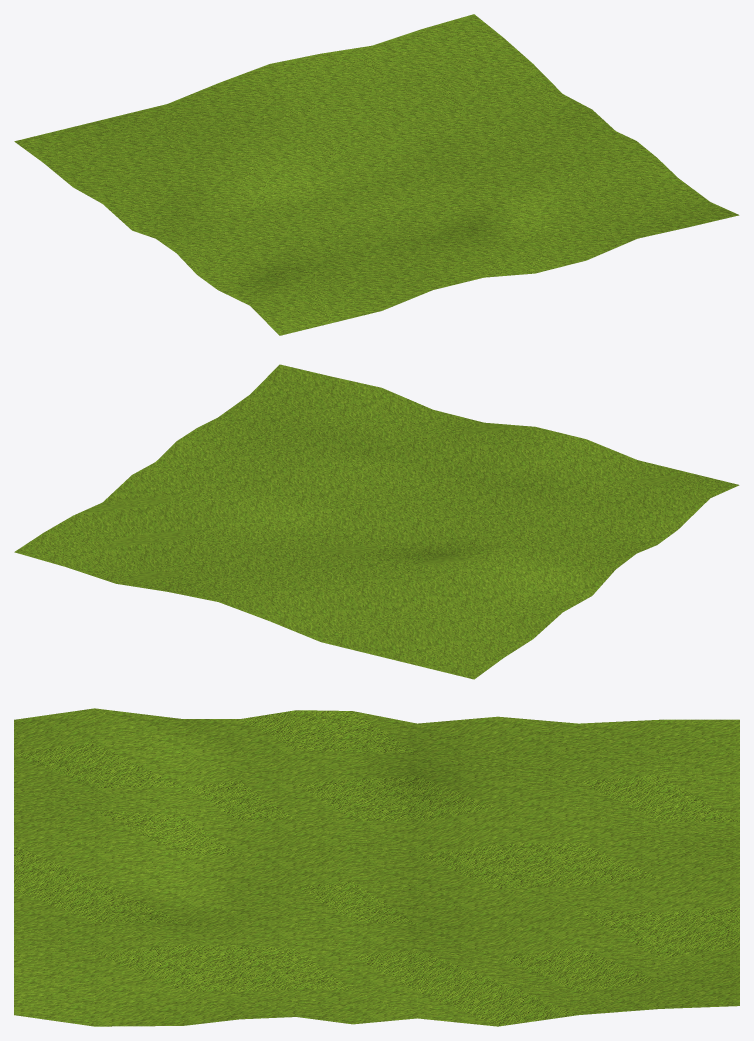
Rendered from grass.glb.
3 views of the same model, one above another, from view 1: azimuth 30°, elevation 25°; view 2: azimuth 150°, elevation 25°; view 3: azimuth 270°, elevation 25° (orthographic). The views are drawn at different scales.
Parts seen in each view (by area): view 1: Plane; view 2: Plane; view 3: Plane.
Part boxes in pixels (x1,y1,x2,y2): Plane: (14,14,739,335); Plane: (14,364,739,679); Plane: (14,708,739,1026).
Size of the model in its own units: 4 by 0.148 by 4.
1 material, 1 textured.
